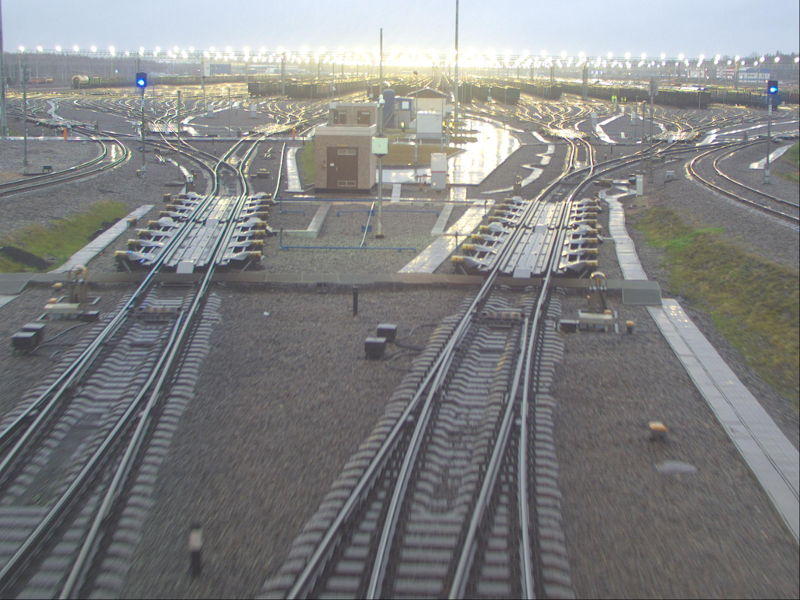railway_arrows: (564, 160, 595, 188)
